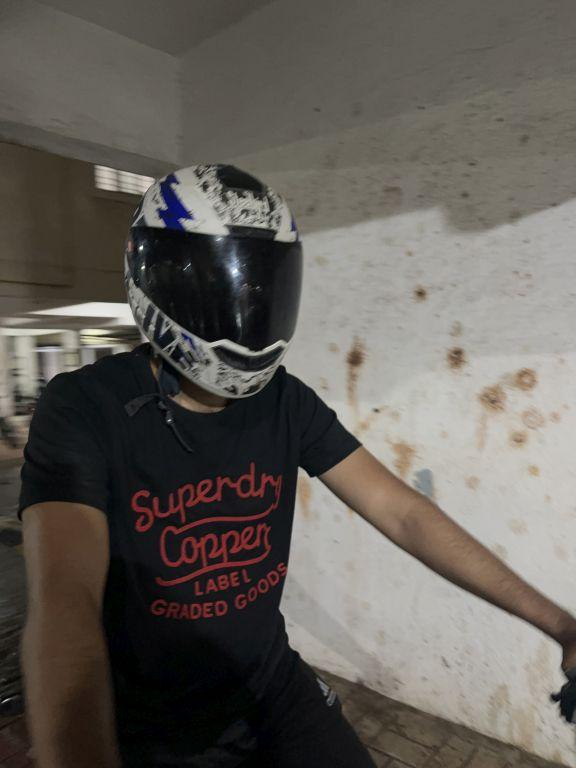helmet: (112, 140, 316, 411)
